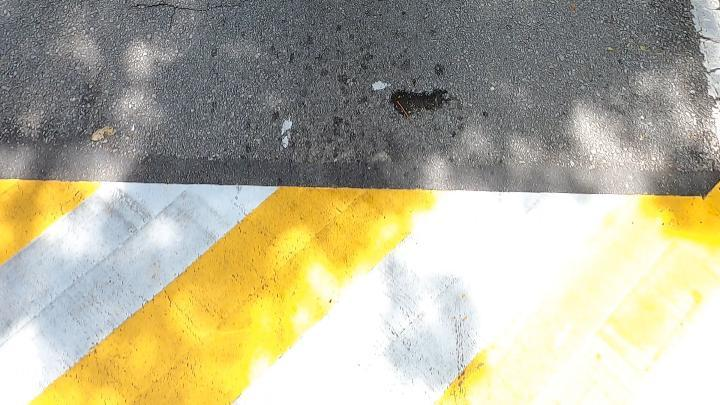Lane: (0, 181, 720, 405), (0, 180, 719, 404)
